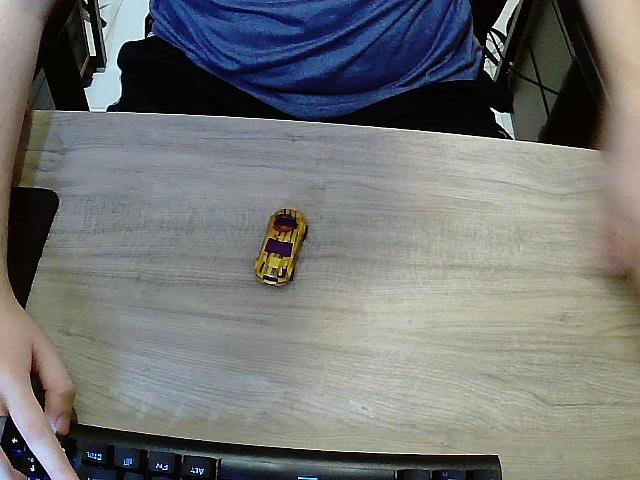Carro: (255, 210, 308, 289)
